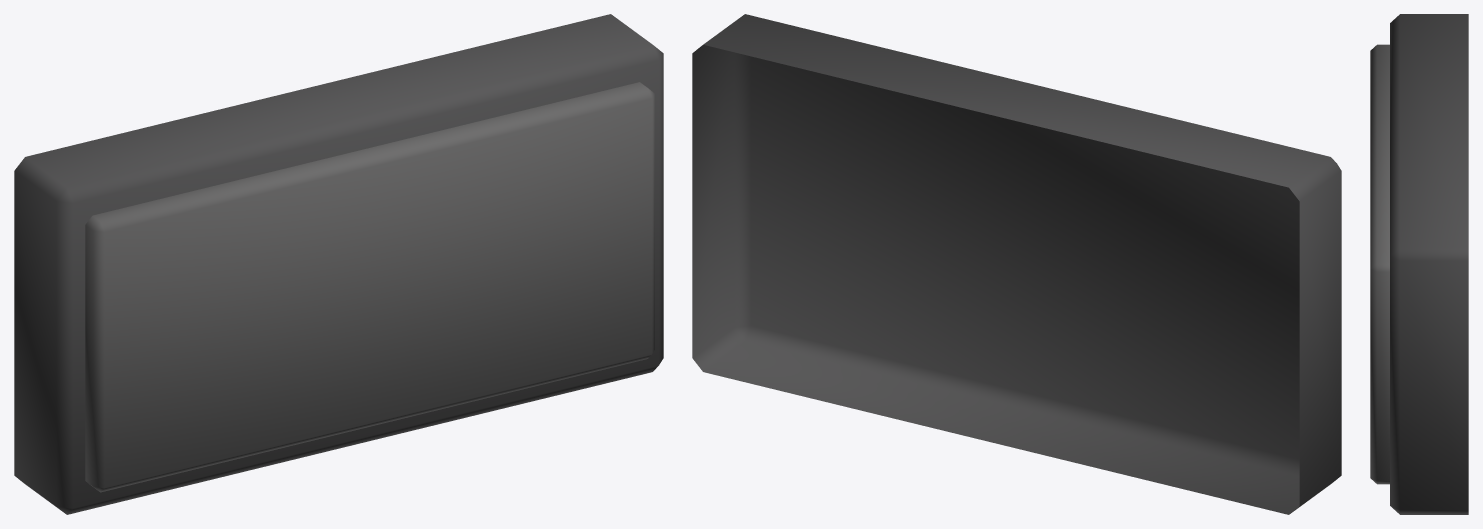
File: ElectricBox_2_D_2.glb
3 views of the same model, side by side, from view 1: azimuth 30°, elevation 25°; view 2: azimuth 150°, elevation 25°; view 3: azimuth 270°, elevation 25° (orthographic). The views are drawn at different scales.
Visible parts, largest first — view 1: ElectricBox_2_D_2; view 2: ElectricBox_2_D_2; view 3: ElectricBox_2_D_2.
Boxes of the visible parts, x1,y1,x2,y2 form: ElectricBox_2_D_2: [14, 14, 663, 514]; ElectricBox_2_D_2: [692, 14, 1341, 514]; ElectricBox_2_D_2: [1370, 14, 1468, 514].
Bounding box in the file's own units: 0.8815 × 0.4542 × 0.1517.
Materials: 1 (1 with a texture image).
